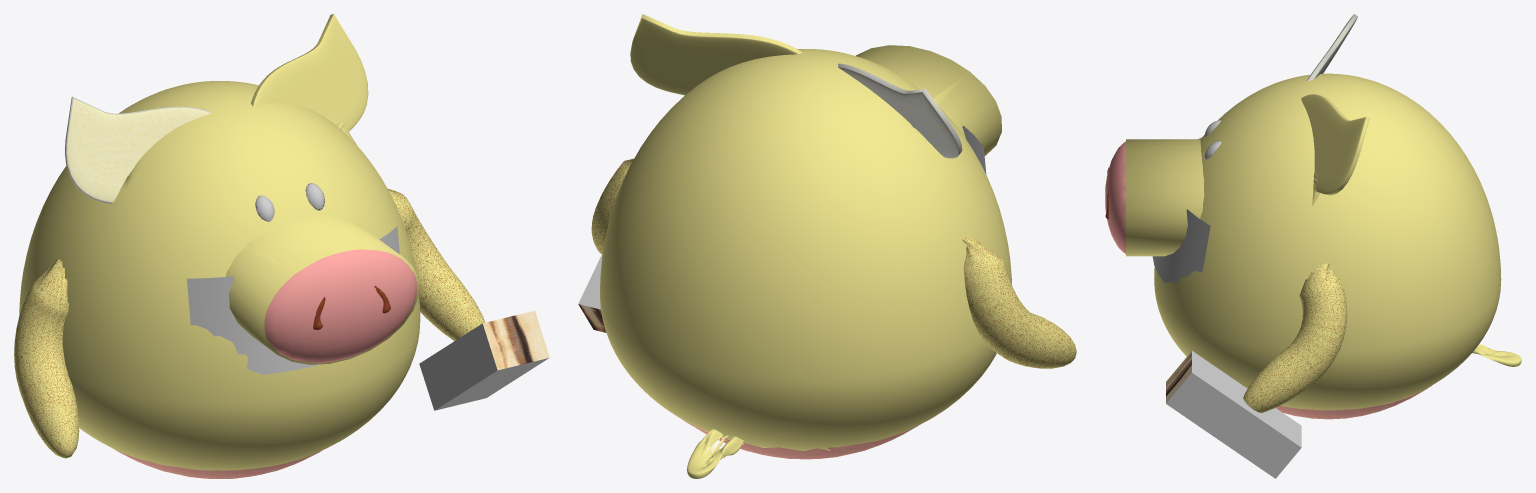
File: brown_pig_wood.dae
The picture shows the model from 3 angles, left to right: view 1: azimuth 30°, elevation 25°; view 2: azimuth 150°, elevation 25°; view 3: azimuth 270°, elevation 25°; orthographic projection. The views are drawn at different scales.
Parts seen in each view (by area): view 1: group_0 (×11), SketchUp (×2), group_1; view 2: group_0 (×8), group_1 (×2), SketchUp; view 3: group_0 (×9), SketchUp (×2), group_1.
Part boxes in pixels (left/top/right/bottom): group_0 (×11): left=14, top=81, right=485, bottom=478; SketchUp (×2): left=419, top=310, right=549, bottom=410; group_1: left=251, top=14, right=368, bottom=144; group_0 (×8): left=591, top=45, right=1076, bottom=478; group_1 (×2): left=630, top=14, right=802, bottom=95; SketchUp: left=578, top=255, right=602, bottom=309; group_0 (×9): left=1105, top=14, right=1521, bottom=419; SketchUp (×2): left=1166, top=351, right=1301, bottom=478; group_1: left=1301, top=94, right=1369, bottom=205.
Bounding box in the file's own units: 35.72 × 32.78 × 29.86.
